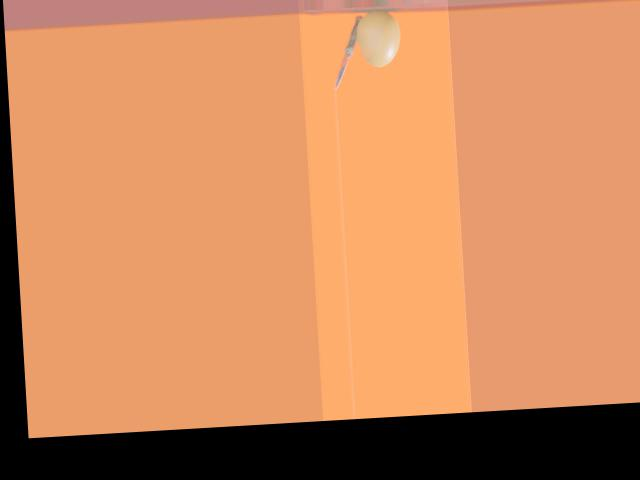egg: (355, 10, 400, 66)
